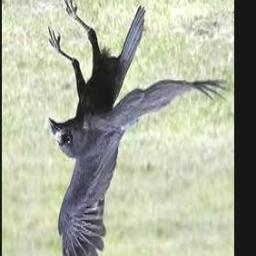Crow: (48, 0, 227, 256)
